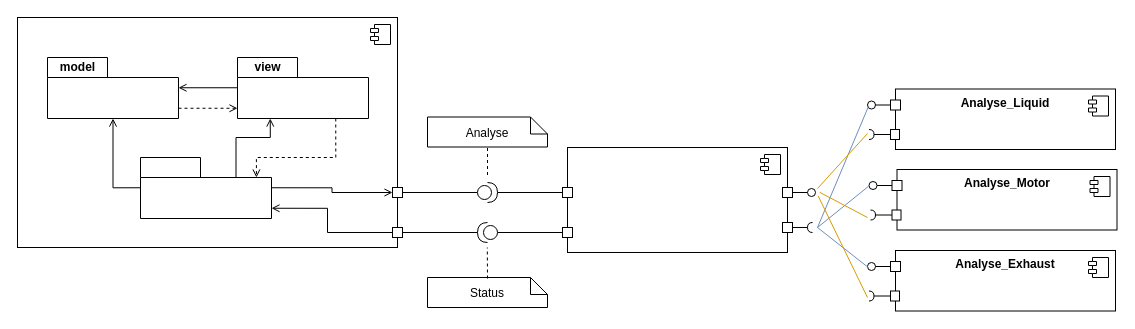
Image size: 1135x329. Some labels were removed from this diagram. Each missing label, with the box of its shape:
Analyse Dashboard: (16, 16, 398, 248)
control: (140, 156, 272, 218)
Kafka: (566, 146, 788, 252)
